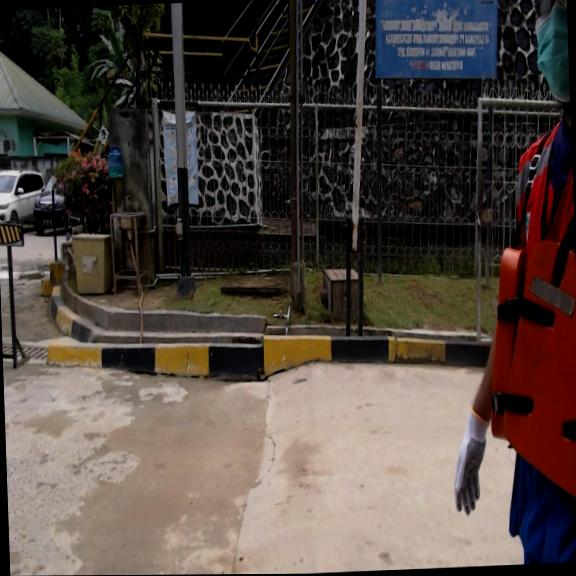safety_vest: (483, 241, 576, 498)
